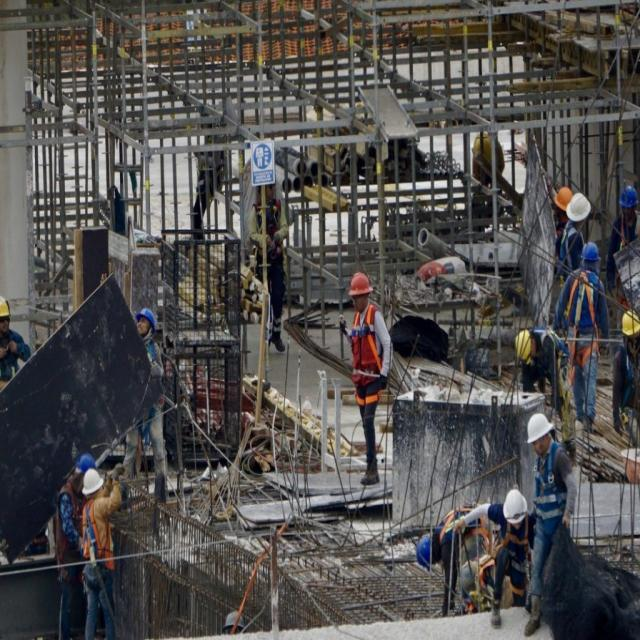Reflective-Jacket: (347, 305, 385, 407), (534, 446, 569, 524), (84, 499, 116, 571), (568, 271, 600, 333)
Safety-Helmet: (503, 487, 528, 524), (526, 412, 554, 444), (568, 190, 591, 222), (348, 270, 373, 298), (515, 330, 532, 363), (82, 466, 102, 494), (622, 308, 639, 338), (555, 184, 573, 211), (620, 185, 638, 208), (76, 451, 95, 471), (582, 241, 599, 262), (139, 307, 155, 324), (1, 296, 11, 319)
